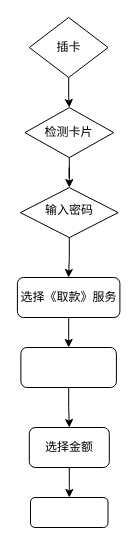
Image size: 138x545. Some labels were removed from this diagram. Each missing label, with the centre of its shape:
等待出钞: point 68,367
退卡: point 69,512
